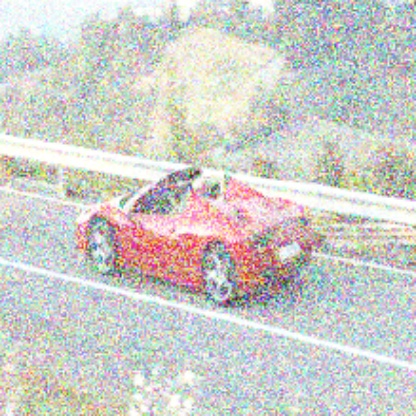Vehicle: (75, 167, 314, 308)
